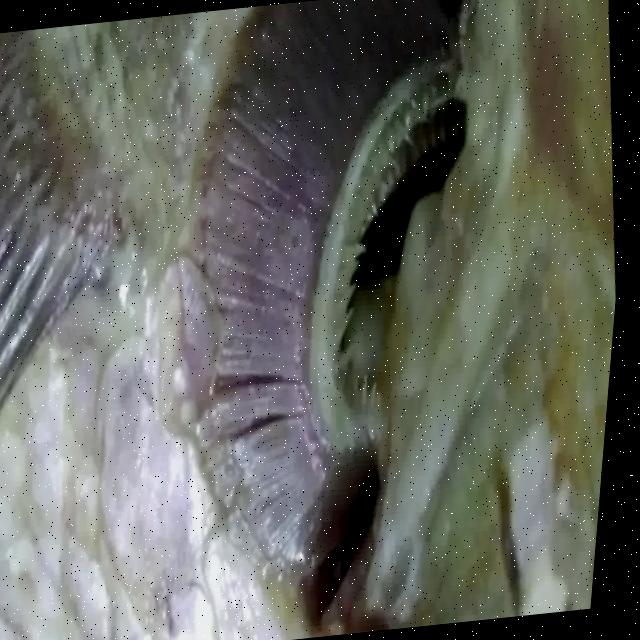Non-Fresh: (155, 0, 504, 610)
